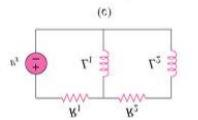inductor: (162, 40, 179, 84), (96, 44, 112, 81)
